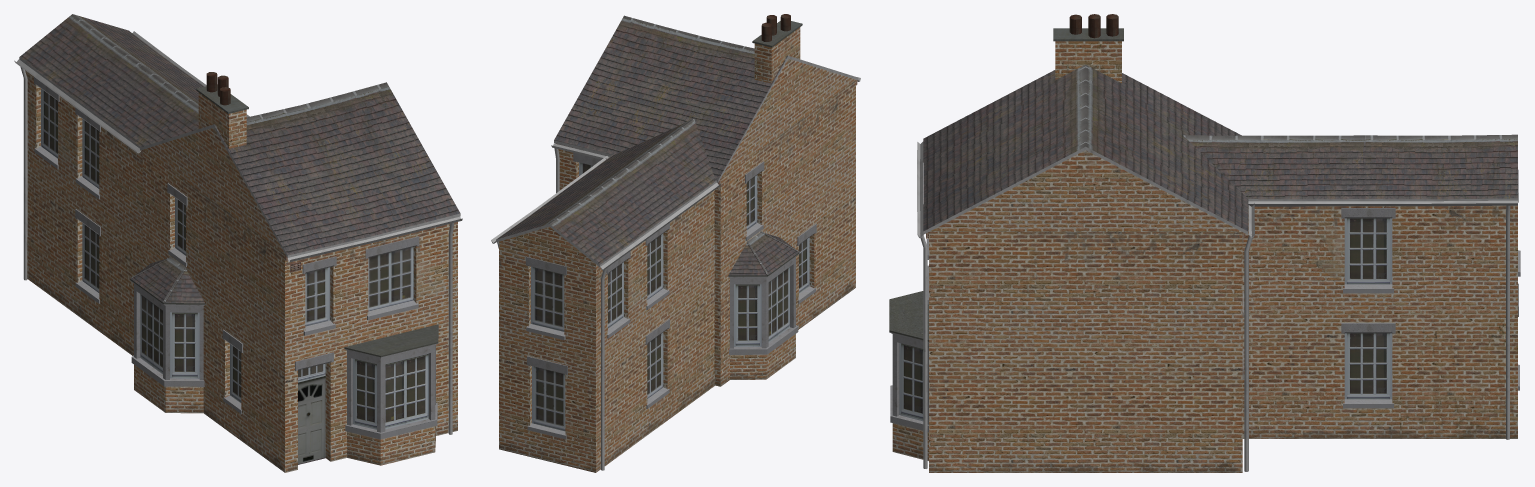
The model's file is ukterracedvictorianc4b.FBX.
The picture shows the model from 3 angles, left to right: view 1: azimuth 30°, elevation 25°; view 2: azimuth 150°, elevation 25°; view 3: azimuth 270°, elevation 25°; orthographic projection. The views are drawn at different scales.
Parts seen in each view (by area): view 1: Object003; view 2: Object003; view 3: Object003.
Part boxes in pixels (box(x1,y1,x2,y2)): Object003: box(14, 14, 462, 472); Object003: box(491, 14, 860, 472); Object003: box(889, 14, 1520, 472).
Size of the model in its own units: 662 by 1045 by 1611.
